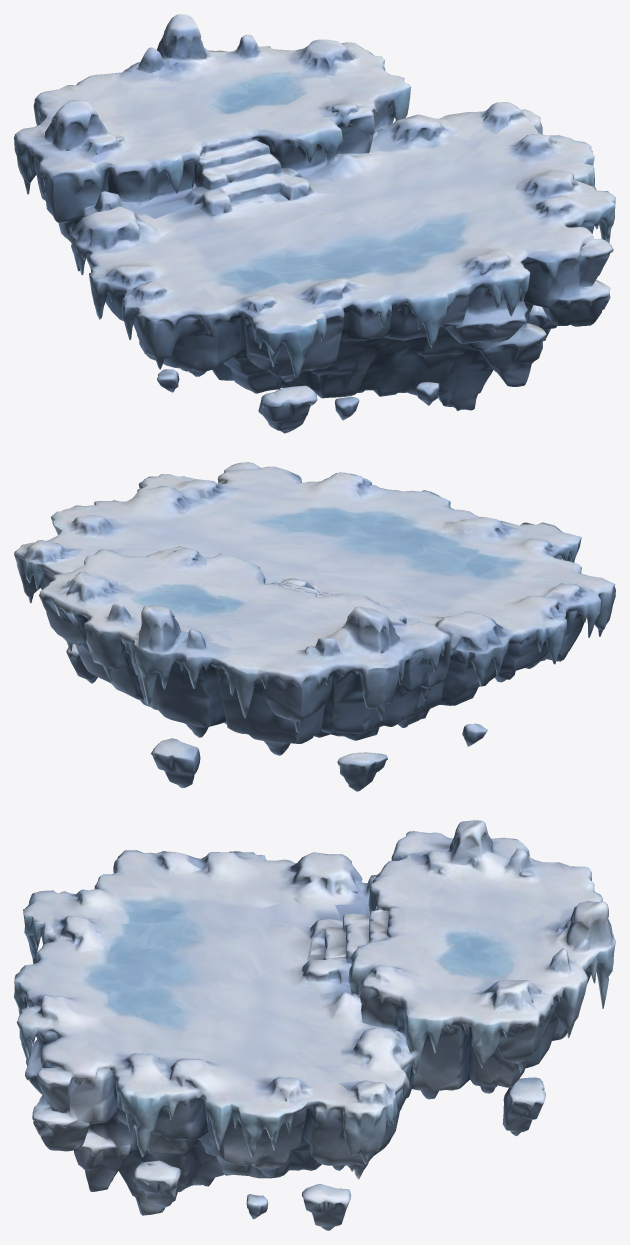
Rendered from R2_Island_Tiered.fbx.
3 views of the same model, one above another, from view 1: azimuth 30°, elevation 25°; view 2: azimuth 150°, elevation 25°; view 3: azimuth 270°, elevation 25° (orthographic). The views are drawn at different scales.
Parts seen in each view (by area): view 1: R2_Island_Tiered; view 2: R2_Island_Tiered; view 3: R2_Island_Tiered.
Part boxes in pixels (x1,y1,x2,y2): R2_Island_Tiered: (14,14,615,433); R2_Island_Tiered: (14,462,615,791); R2_Island_Tiered: (14,820,615,1230).
Size of the model in its own units: 1050 by 500 by 1000.
1 material, 1 textured.
